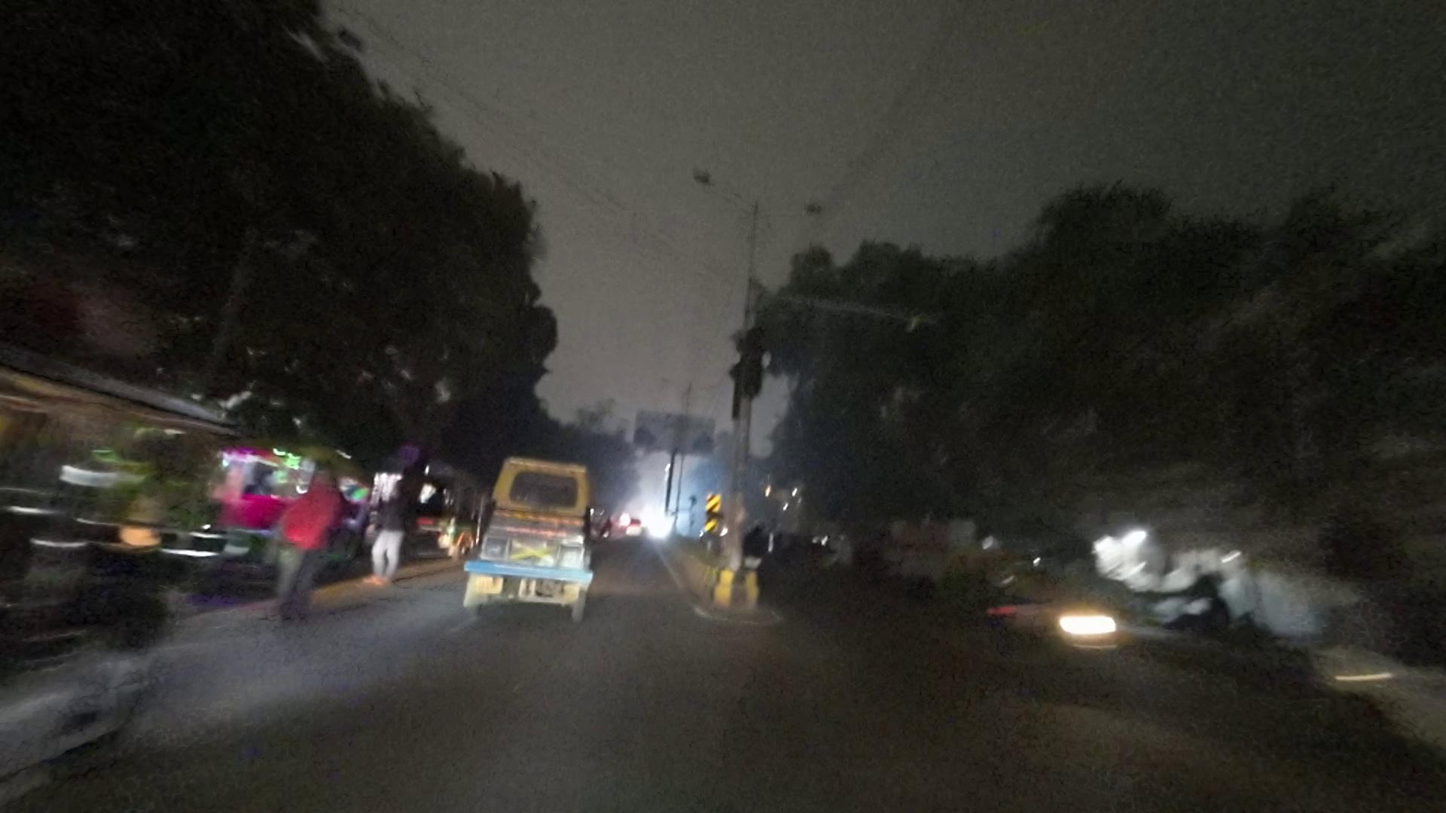streetlight: (690, 163, 753, 206), (757, 190, 825, 219)
